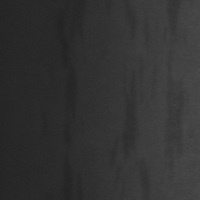inclusion: (50, 7, 86, 198), (114, 57, 152, 195), (159, 6, 188, 179)
